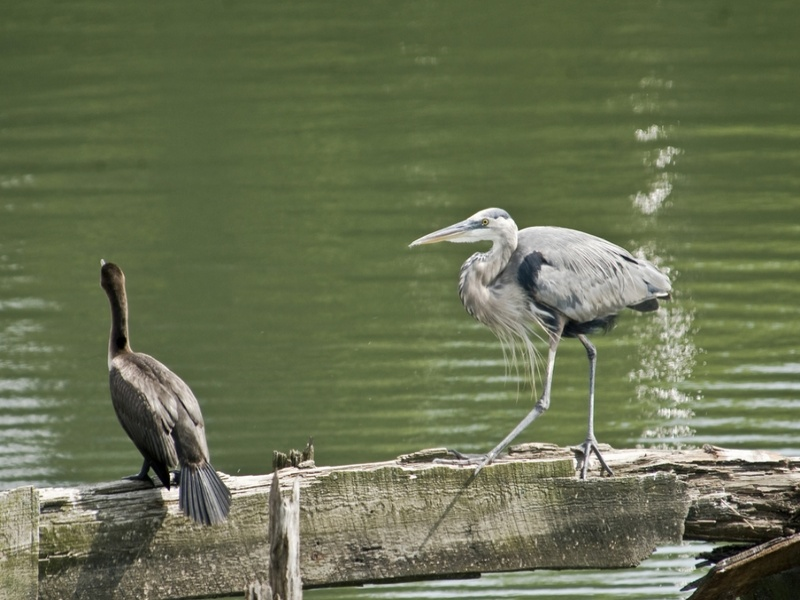heron: (405, 202, 674, 474)
